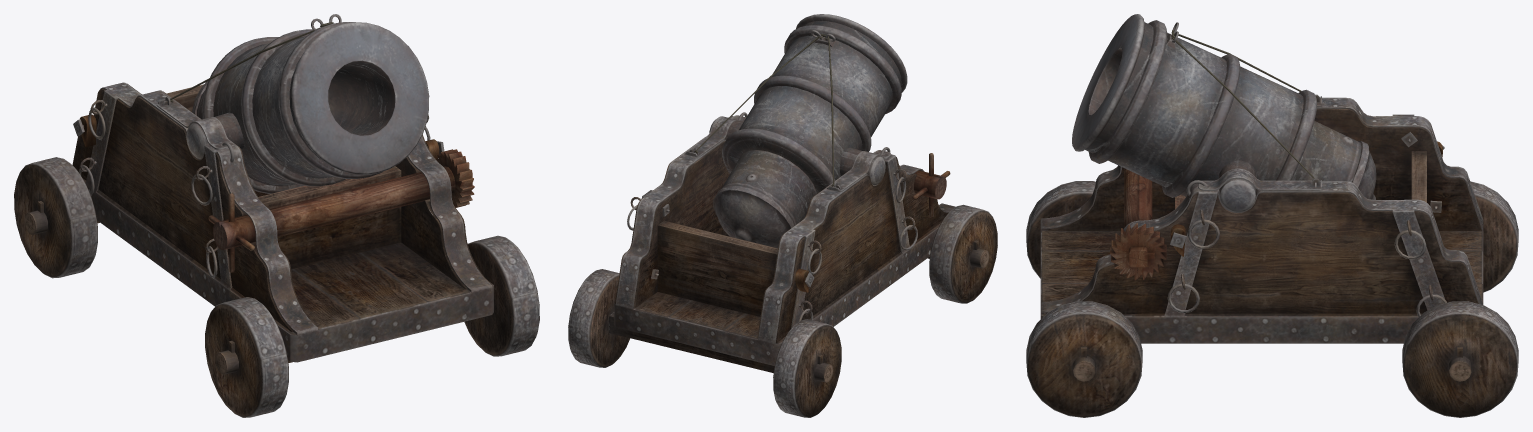
The model's file is old_mortar_cannon.glb.
The picture shows the model from 3 angles, left to right: view 1: azimuth 30°, elevation 25°; view 2: azimuth 150°, elevation 25°; view 3: azimuth 270°, elevation 25°; orthographic projection. The views are drawn at different scales.
Visible parts, largest first — view 1: Corps, Barrel, Gear, RightRearWheel, RightFrontWheel, Left_Front_Wheel; view 2: Corps, Barrel, RightFrontWheel, RightRearWheel, Left_Rear_Wheel, Gear, Rope; view 3: Corps, Barrel, Left_Rear_Wheel, Left_Front_Wheel, Gear, RightRearWheel, RightFrontWheel, Rope.
Boxes of the visible parts, box(x1,y1,x2,y2) form: Corps: box(24, 82, 493, 374); Barrel: box(186, 14, 429, 193); Gear: box(208, 149, 474, 272); RightRearWheel: box(14, 157, 97, 278); RightFrontWheel: box(205, 297, 288, 417); Left_Front_Wheel: box(464, 235, 539, 356); Corps: box(609, 112, 989, 382); Barrel: box(709, 14, 907, 248); RightFrontWheel: box(929, 204, 997, 303); RightRearWheel: box(773, 319, 841, 417); Left_Rear_Wheel: box(568, 269, 629, 367); Gear: box(912, 153, 950, 217); Rope: box(696, 34, 834, 183); Corps: box(1040, 94, 1483, 381); Barrel: box(1072, 14, 1376, 212); Left_Rear_Wheel: box(1402, 301, 1518, 417); Left_Front_Wheel: box(1026, 301, 1142, 417); Gear: box(1110, 168, 1166, 280); RightRearWheel: box(1470, 181, 1518, 292); RightFrontWheel: box(1026, 181, 1095, 278); Rope: box(1171, 30, 1314, 178).
Size of the model in its own units: 1.17 by 1.24 by 1.67.
Materials: 1 (1 with a texture image).
